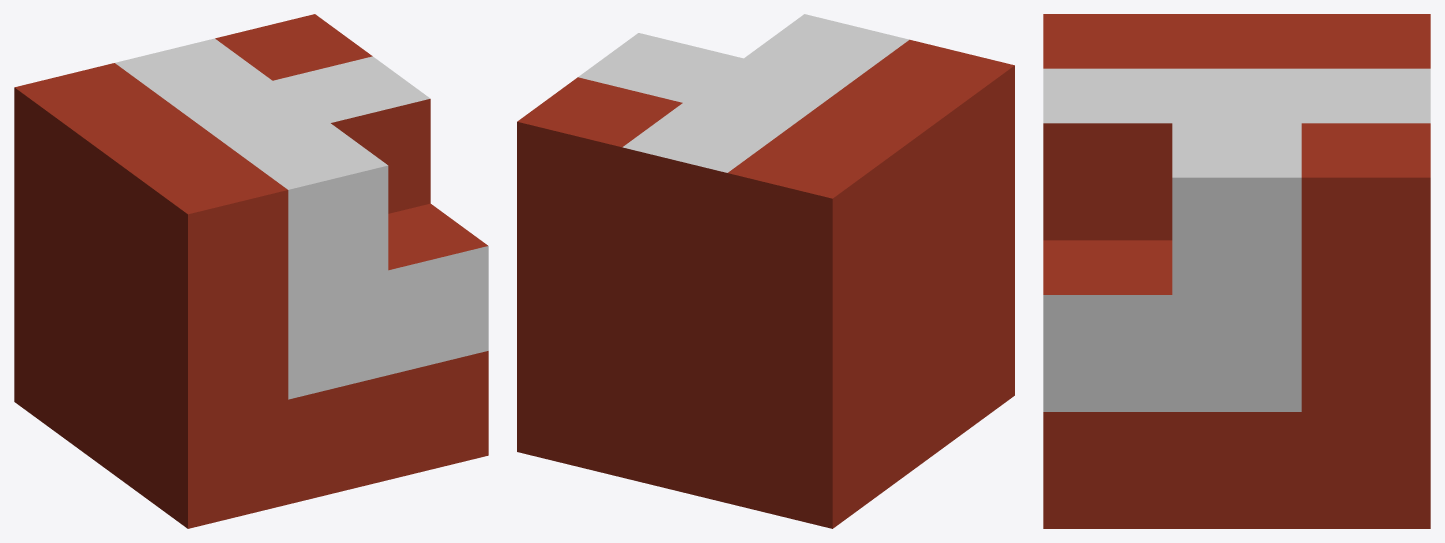
The model's file is babylon-cube.glb.
3 renders of one model, left to right at view 1: azimuth 30°, elevation 25°; view 2: azimuth 150°, elevation 25°; view 3: azimuth 270°, elevation 25°, orthographic. The views are drawn at different scales.
Visible parts, largest first — view 1: BabylonCube; view 2: BabylonCube; view 3: BabylonCube.
Part boxes in pixels (x1,y1,x2,y2): BabylonCube: (14, 14, 488, 528); BabylonCube: (517, 14, 1014, 528); BabylonCube: (1043, 14, 1430, 528).
Bounding box in the file's own units: 1 × 1 × 1.
